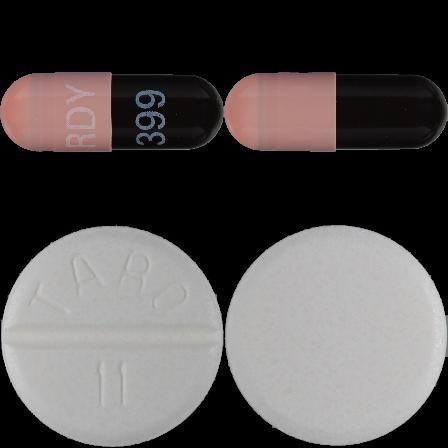33261-674: (0, 0, 224, 224)
